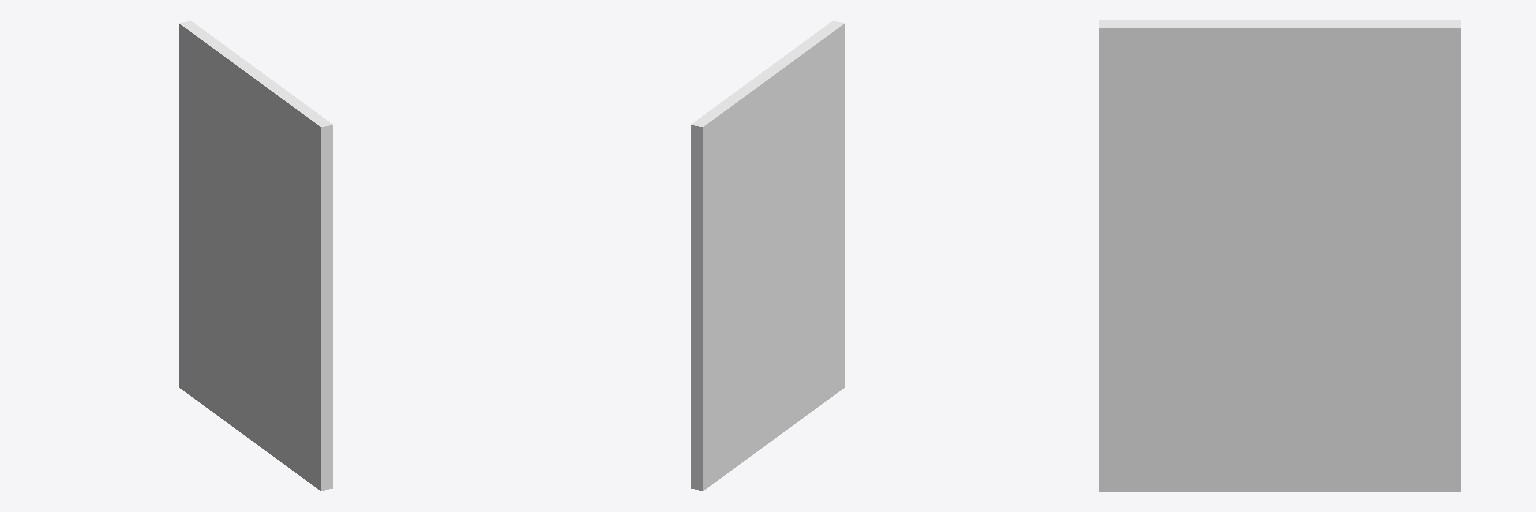
The robot description file, URDF, robot "aruco":
<?xml version="1.0" ?>
<robot name="aruco">
  <link name="arucoLink">
  <contact>
      <lateral_friction value="1"/>
  </contact>
    <inertial>
      <origin rpy="0 0 0" xyz="0 0 0"/>
       <mass value=".0"/>
       <inertia ixx="0" ixy="0" ixz="0" iyy="0" iyz="0" izz="0"/>
    </inertial>
    <visual>
      <origin rpy="0 0 -1.570796" xyz="0 0 0"/>
      <geometry>
				<mesh filename="calibration.obj" scale="1 1 1"/>
      </geometry>
       <material name="white">
        <color rgba="1 1 1 1"/>
      </material>
    </visual>
    <collision>
      <origin rpy="0 0 -1.570796" xyz="0 0 0"/>
      <geometry>
		<mesh filename="calibration.obj" scale="1 1 1"/>
      </geometry>
    </collision>
  </link>
</robot>

--- What the picture shows (computed from the rendered views, not written in the file) ---
Views: 3 orthographic renders of the robot side by side, from view 1: azimuth 30°, elevation 25°; view 2: azimuth 150°, elevation 25°; view 3: azimuth 270°, elevation 25°.
Model aruco with 1 links and 0 joints (none), rooted at arucoLink, posed every joint at zero.
Links seen in each view (by area): view 1: arucoLink; view 2: arucoLink; view 3: arucoLink.
Boxes of the visible links, <box> form: arucoLink: <box>179,21,332,490</box>; arucoLink: <box>691,21,844,490</box>; arucoLink: <box>1099,20,1460,491</box>.
Bounding box of the posed robot: 0.01 × 0.21 × 0.297 m (x, y, z).
1 mesh visuals loaded from 1 distinct referenced files (1 OBJ).